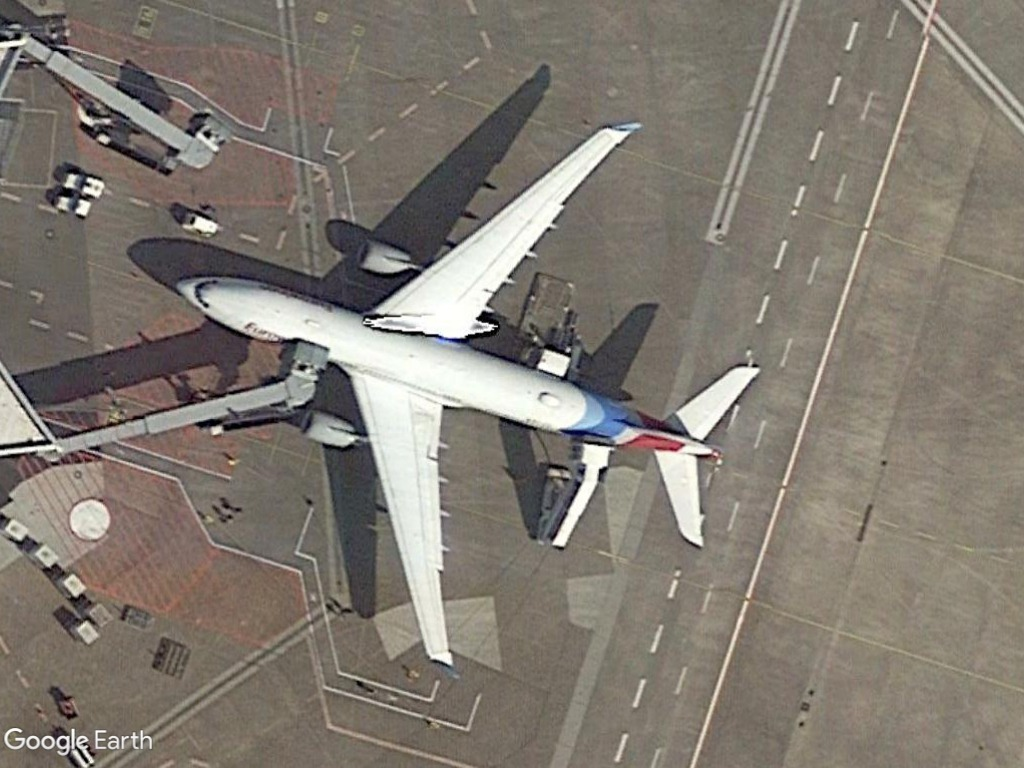chartered: (170, 114, 764, 671)
